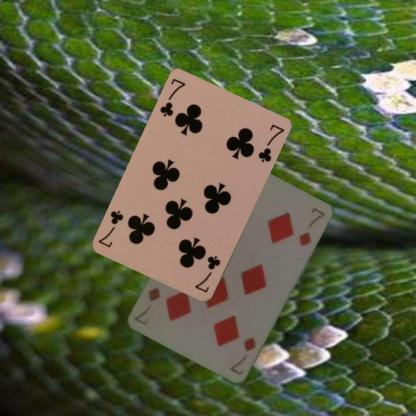7c: (192, 253, 222, 295), (157, 76, 187, 118)
7d: (227, 335, 257, 377)
